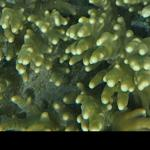dead: (2, 6, 148, 127)
